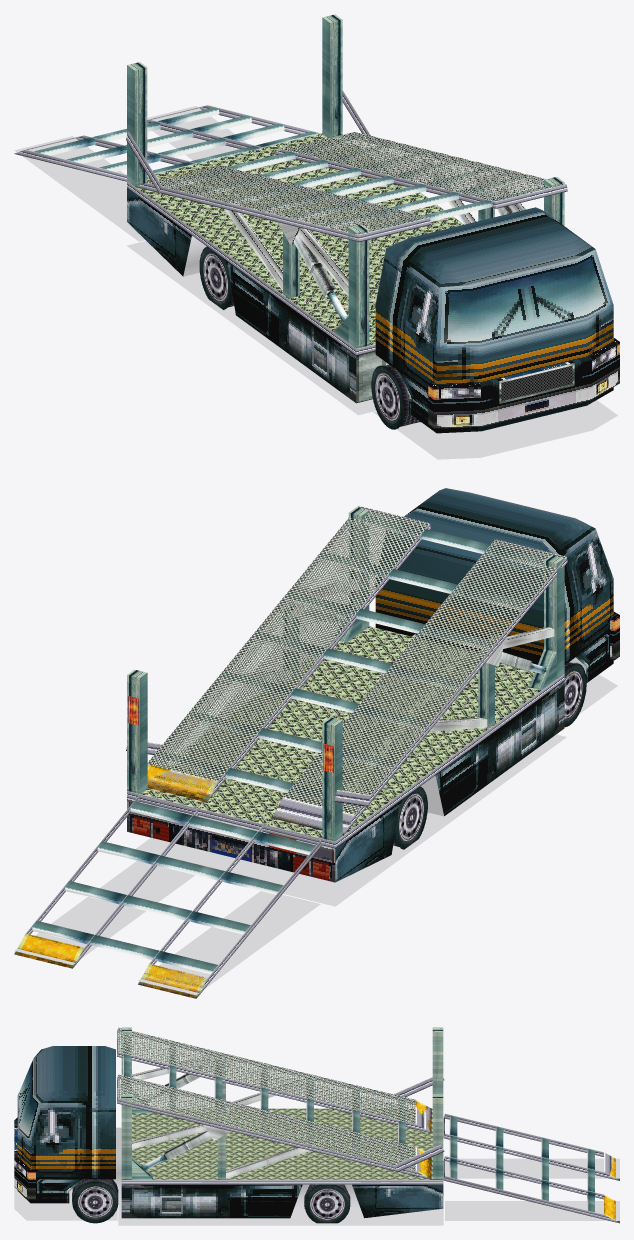
The picture shows the model from 3 angles, top to bottom: view 1: azimuth 30°, elevation 25°; view 2: azimuth 150°, elevation 25°; view 3: azimuth 270°, elevation 25°; orthographic projection. The views are drawn at different scales.
Parts seen in each view (by area): view 1: model; view 2: model; view 3: model.
Boxes of the visible parts, x1,y1,x2,y2 form: model: [14, 14, 619, 459]; model: [14, 488, 619, 998]; model: [14, 1027, 619, 1225].
Bounding box in the file's own units: 32.1 × 27.01 × 115.
Materials: 23 (22 with a texture image).
